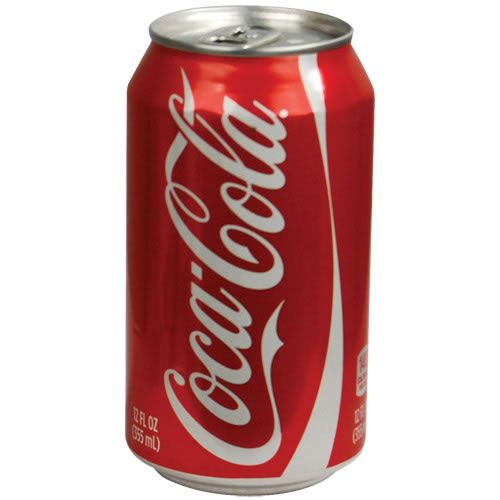coca_cola_can: (125, 5, 374, 497)
